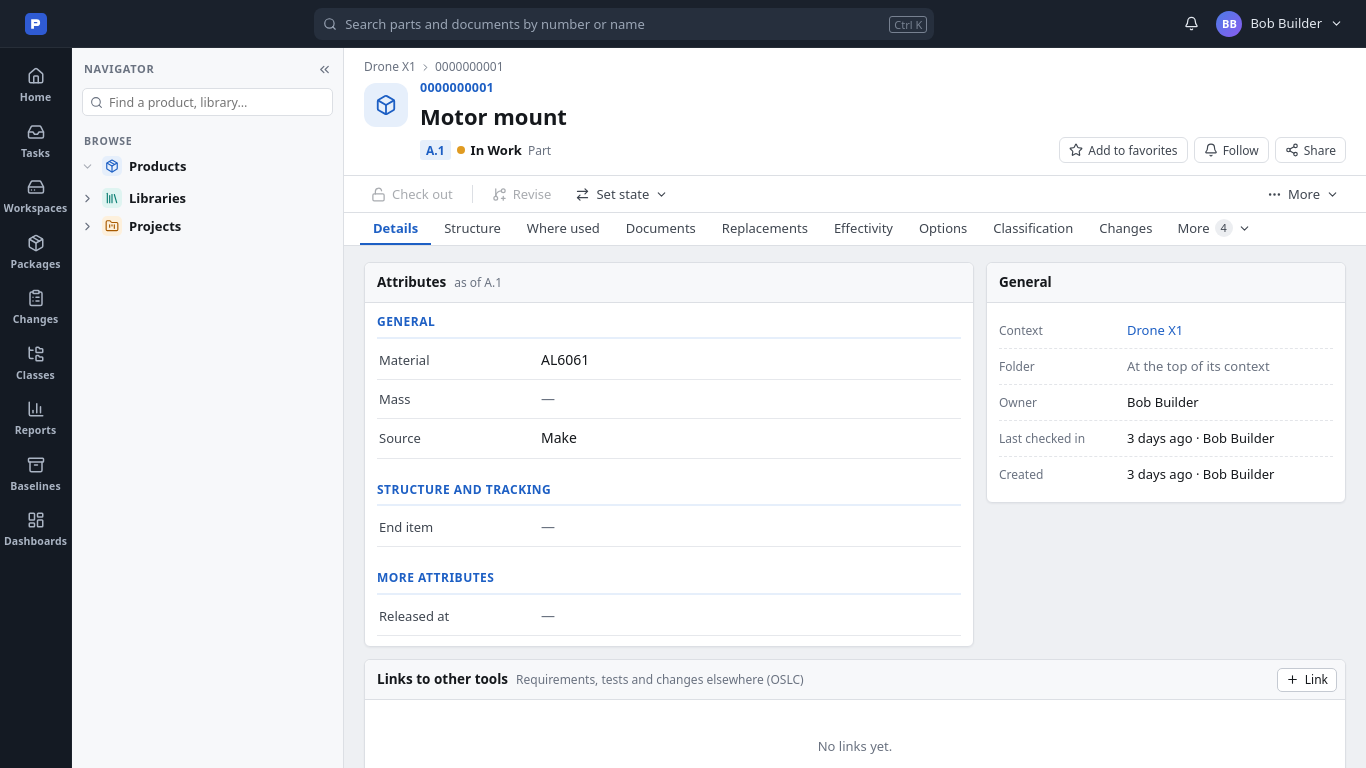
Scenario: ObjectPage › offers site administrators an override to any state
Click the button "Set state".
click(622, 194)  # box [564, 180, 679, 208]
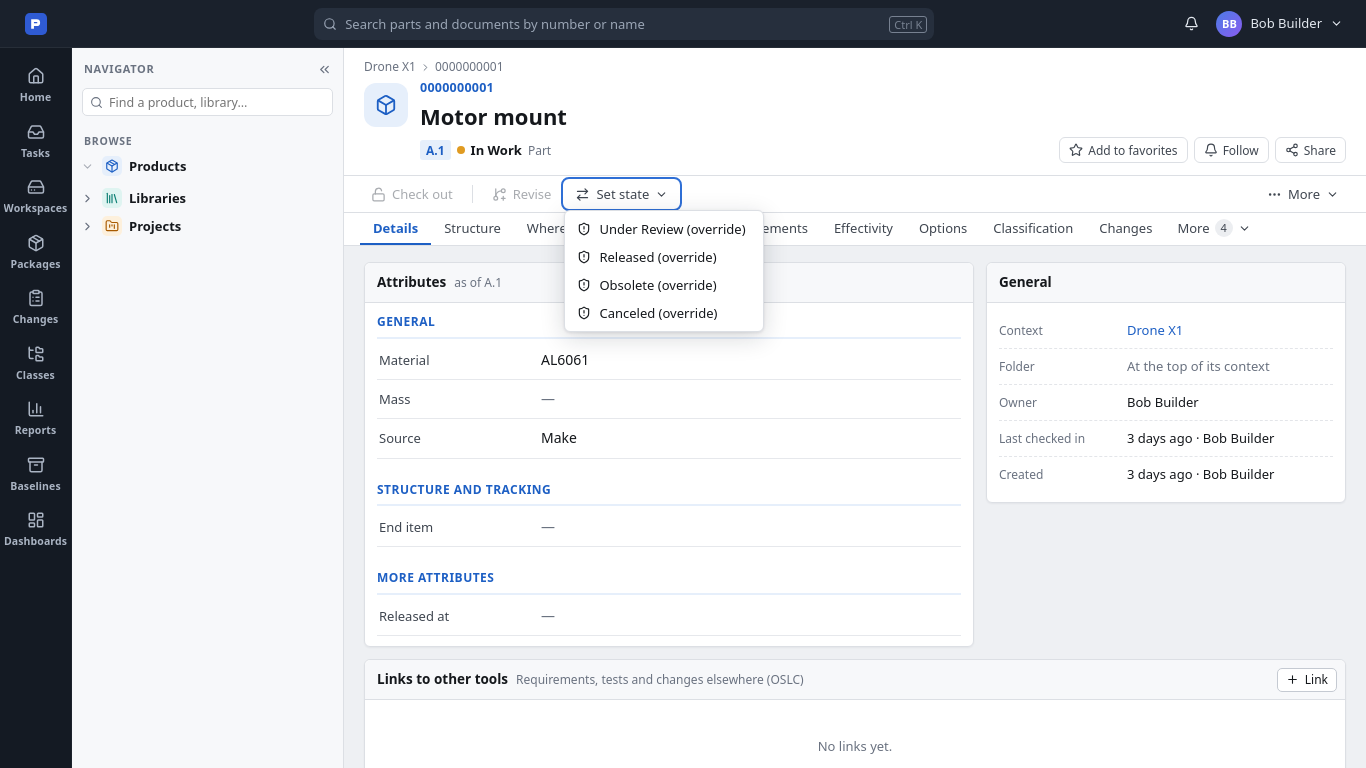
Result: the menu item "Released (override)" is shown
Click the menu item "Released (override)".
click(664, 257)  # box [565, 243, 763, 271]
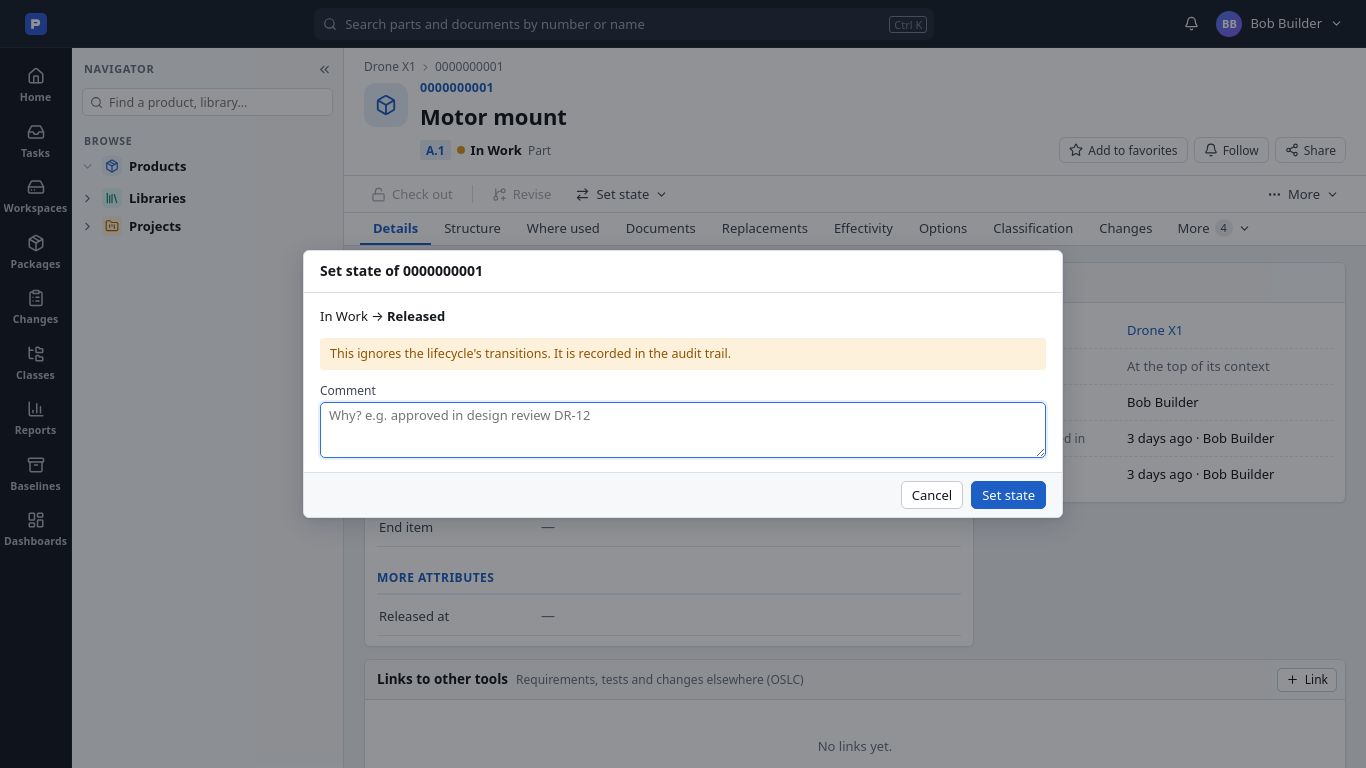
Result: the text "ignores the lifecycle's transitions" is shown at [330, 345, 731, 362]
